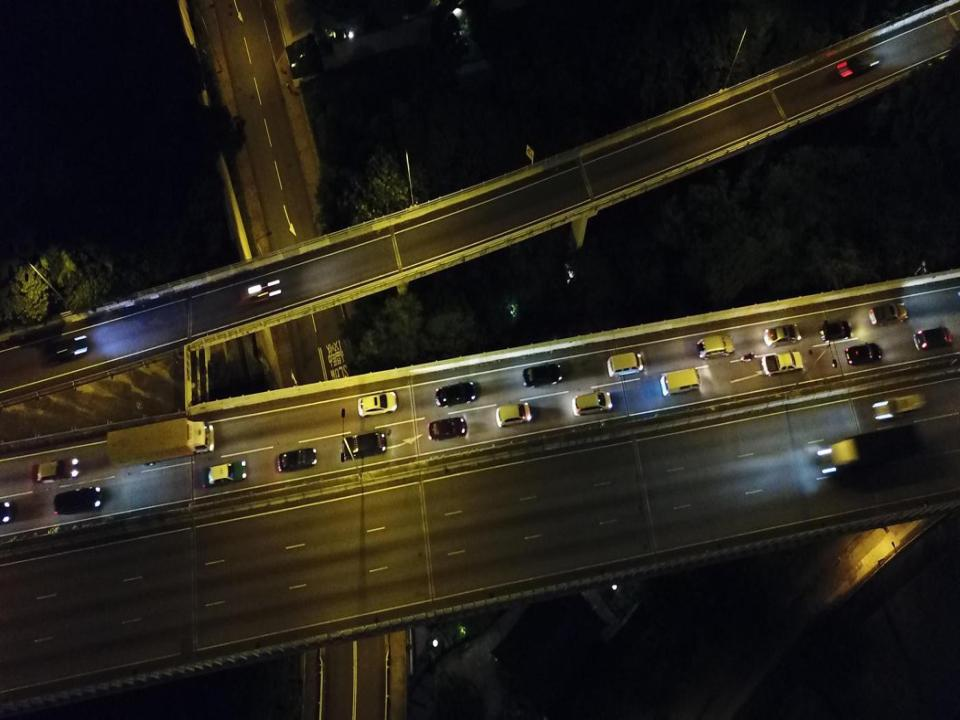car: (872, 390, 927, 422), (42, 331, 88, 367), (53, 485, 104, 516), (200, 458, 248, 490), (836, 49, 876, 85), (342, 432, 388, 461), (434, 380, 478, 409), (30, 456, 80, 481), (356, 390, 398, 418), (522, 361, 564, 388), (913, 324, 953, 352), (571, 390, 614, 416), (277, 446, 317, 473), (696, 333, 736, 360), (761, 351, 804, 376), (868, 300, 909, 326), (496, 400, 533, 428), (428, 416, 468, 441), (762, 322, 802, 347), (844, 341, 883, 365), (818, 319, 852, 343)
truck: (107, 416, 215, 470)
van: (659, 366, 701, 397), (606, 352, 645, 377)
